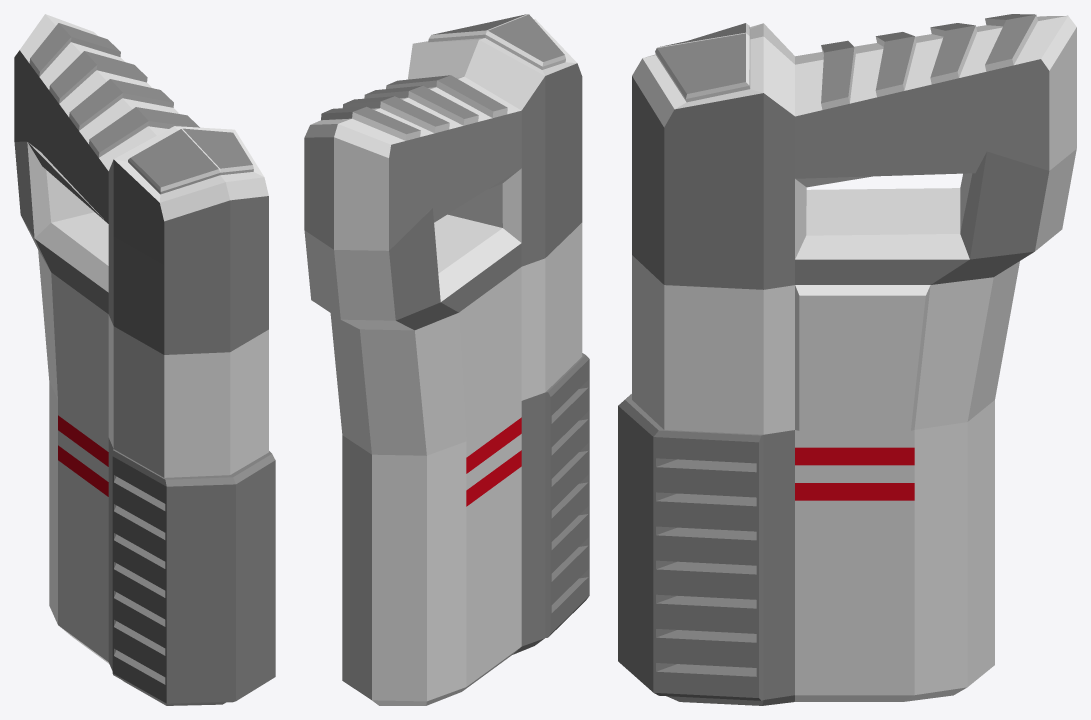
Rendered from Laser_Rifle_Prototype.fbx.
3 renders of one model, left to right at view 1: azimuth 30°, elevation 25°; view 2: azimuth 150°, elevation 25°; view 3: azimuth 270°, elevation 25°, orthographic. The views are drawn at different scales.
Parts seen in each view (by area): view 1: Cube; view 2: Cube; view 3: Cube.
Part boxes in pixels (box(x1,y1,x2,y2)): Cube: box(14, 14, 275, 705); Cube: box(304, 14, 589, 705); Cube: box(618, 14, 1076, 705).
Size of the model in its own units: 16.61 by 69.94 by 43.89.
